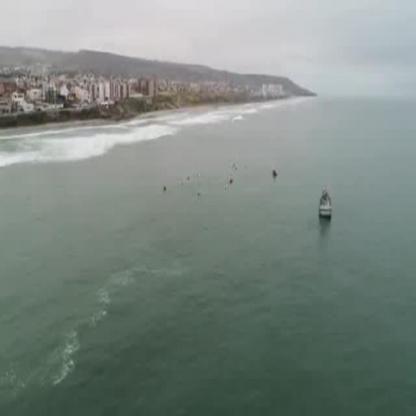Boat: (314, 190, 338, 221)
